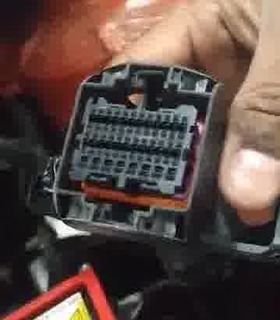connector: (50, 63, 227, 245)
